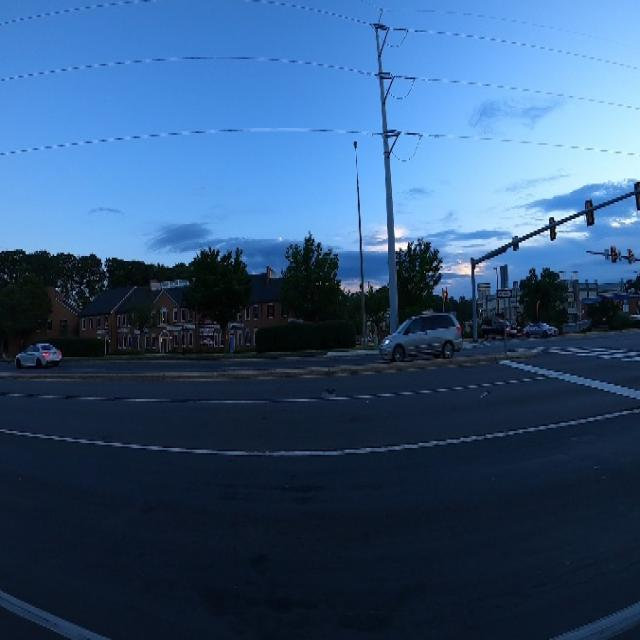cars: (377, 303, 461, 373), (16, 329, 64, 375), (524, 312, 560, 348)
